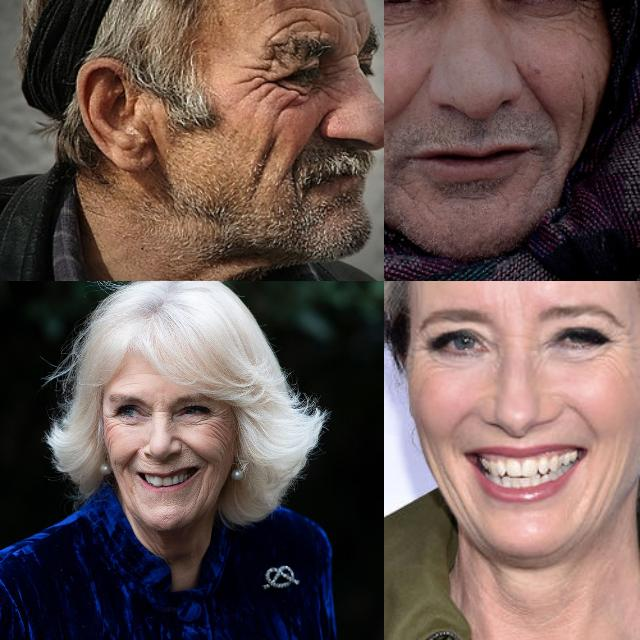chin: (196, 478, 210, 512)
crows_feet: (242, 56, 276, 104), (608, 326, 638, 374), (410, 340, 430, 372), (579, 0, 600, 28), (212, 410, 226, 438), (102, 410, 118, 432)
forehead: (262, 4, 336, 36), (116, 379, 146, 389)
frown_line: (150, 407, 168, 419)
gummy_smile: (394, 73, 430, 123), (521, 75, 557, 123), (568, 400, 602, 438), (442, 402, 480, 436), (184, 440, 212, 466), (118, 450, 142, 474)
masseter: (428, 448, 467, 520), (246, 130, 278, 190), (586, 467, 618, 527), (569, 86, 591, 144)
smoker_lines: (145, 461, 173, 472)
